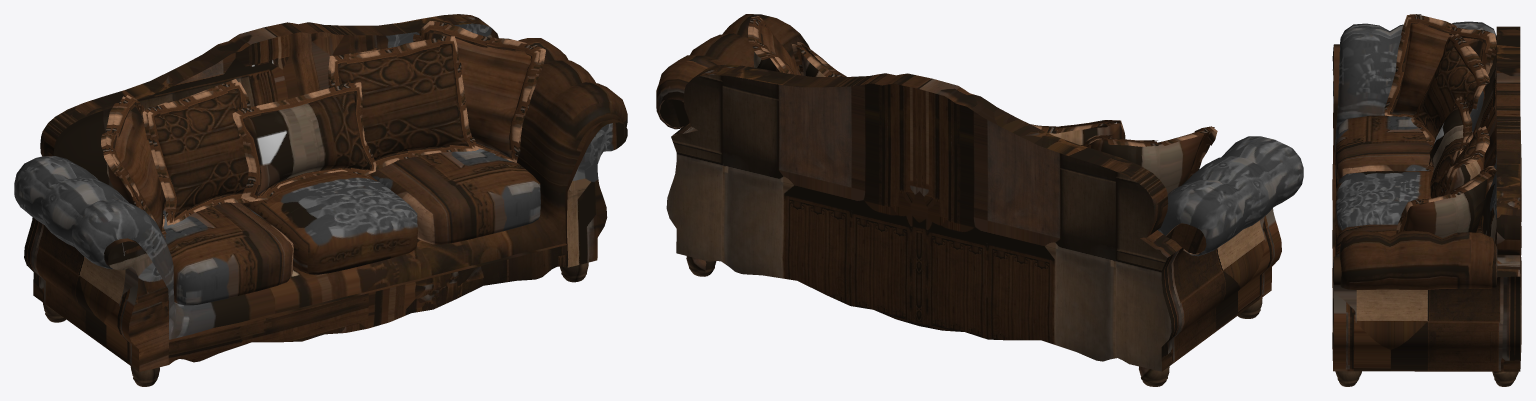
The model's file is sofa_02.fbx.
3 renders of one model, left to right at view 1: azimuth 30°, elevation 25°; view 2: azimuth 150°, elevation 25°; view 3: azimuth 270°, elevation 25°, orthographic. The views are drawn at different scales.
Visible parts, largest first — view 1: sofa_2; view 2: sofa_2; view 3: sofa_2.
Part boxes in pixels (x1,y1,x2,y2): sofa_2: (14, 14, 627, 386); sofa_2: (656, 14, 1303, 386); sofa_2: (1332, 14, 1521, 386).
Size of the model in its own units: 273 by 112 by 92.51.
